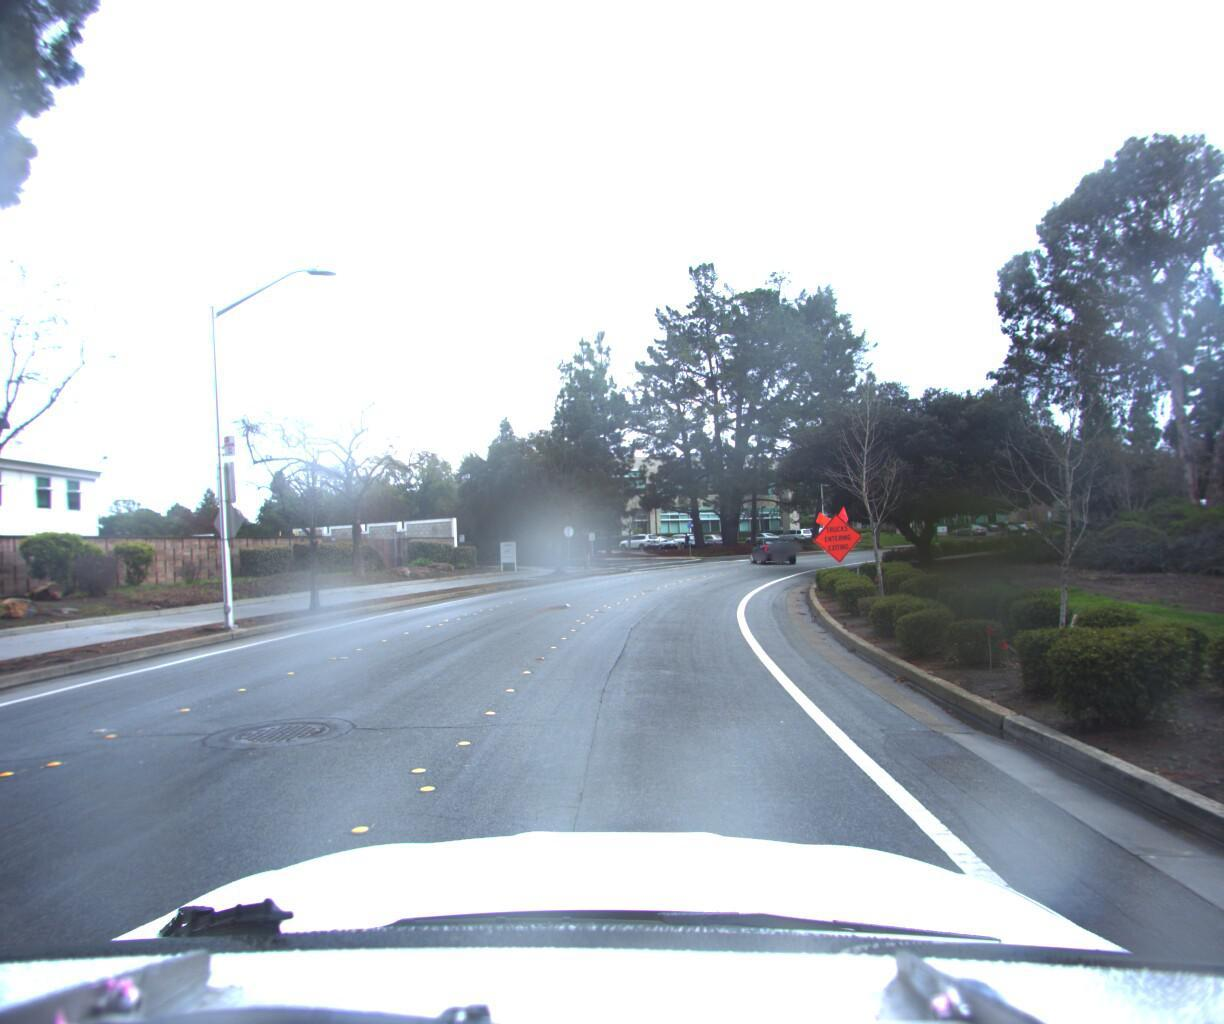car: (739, 531, 798, 566)
